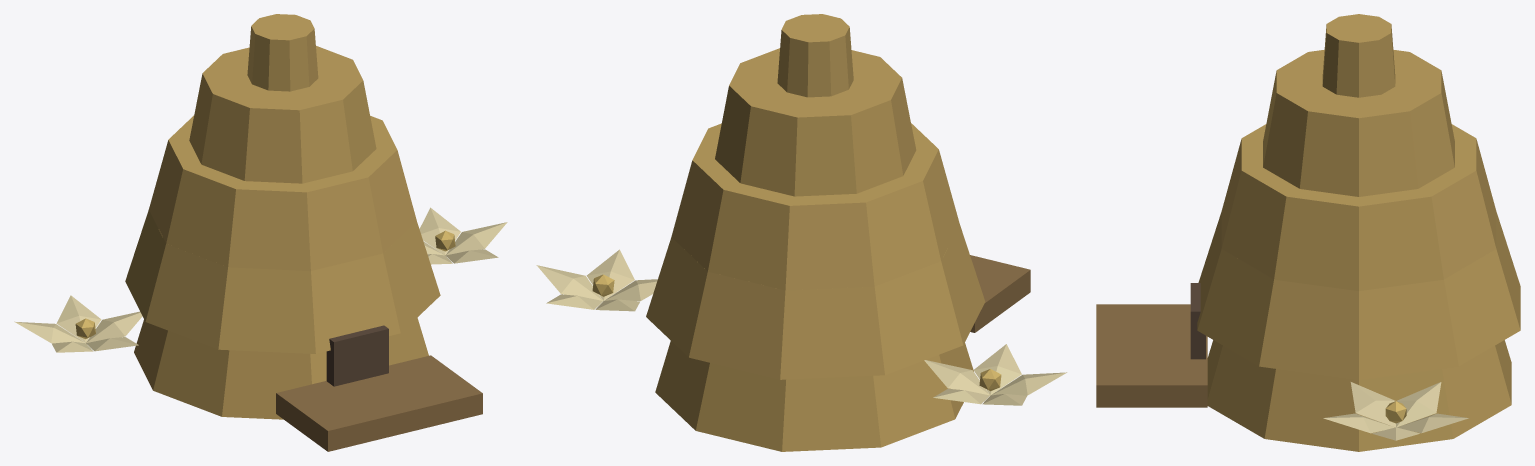
The model's file is map-exclusive-v3__village_04.glb.
3 renders of one model, left to right at view 1: azimuth 30°, elevation 25°; view 2: azimuth 150°, elevation 25°; view 3: azimuth 270°, elevation 25°, orthographic. The views are drawn at different scales.
Parts seen in each view (by area): view 1: village_04; view 2: village_04; view 3: village_04.
Part boxes in pixels (x1,y1,x2,y2): village_04: (14, 14, 507, 451); village_04: (536, 14, 1067, 451); village_04: (1096, 14, 1520, 451).
Size of the model in its own units: 1.89 by 1.27 by 1.37.
